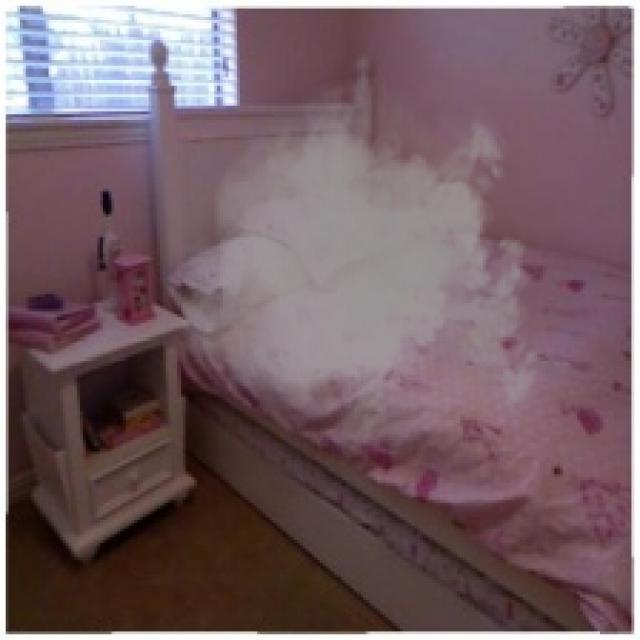smoke: (174, 63, 549, 466)
